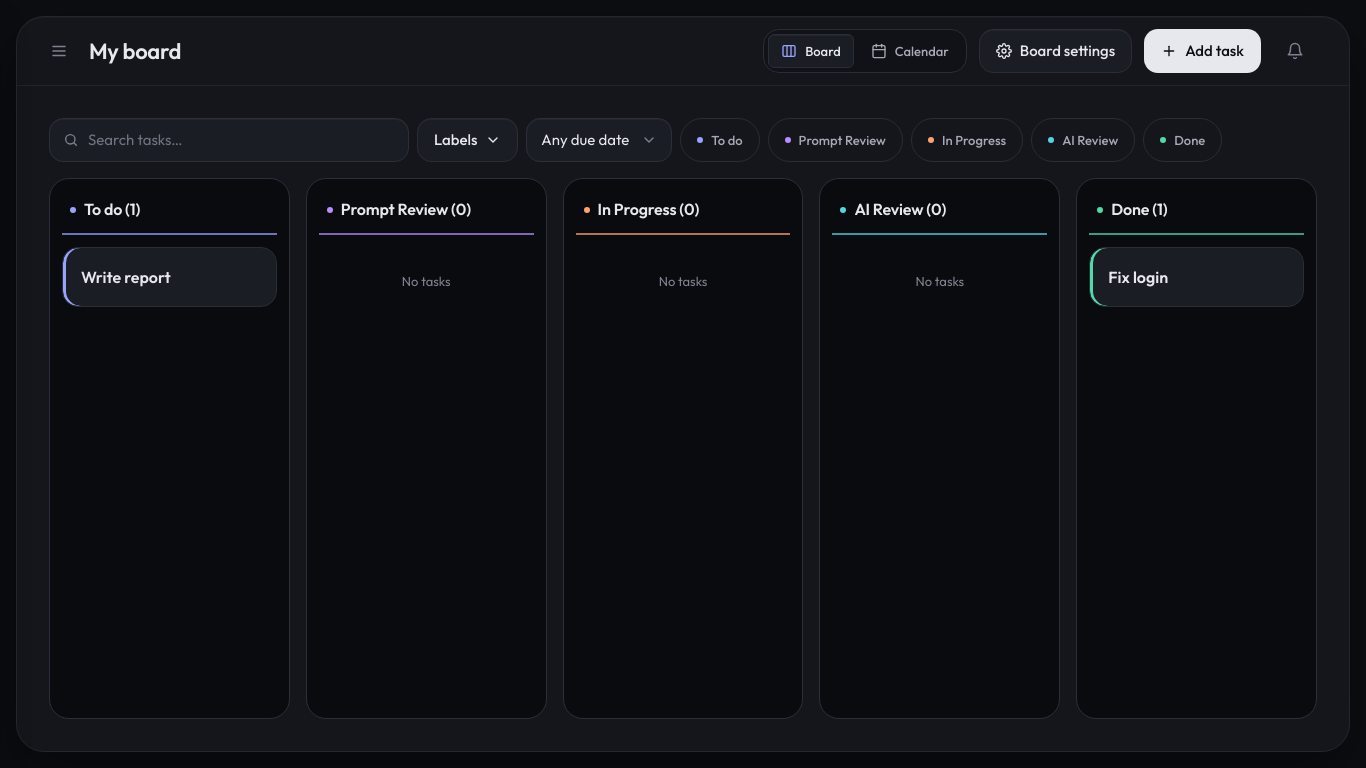
Test case: App › creates a board from the menu and opens it
Check: the button "Write report" is shown, box [81,266,171,288]
Click the button named "Open menu" at (59, 51), box [37,29,81,73]
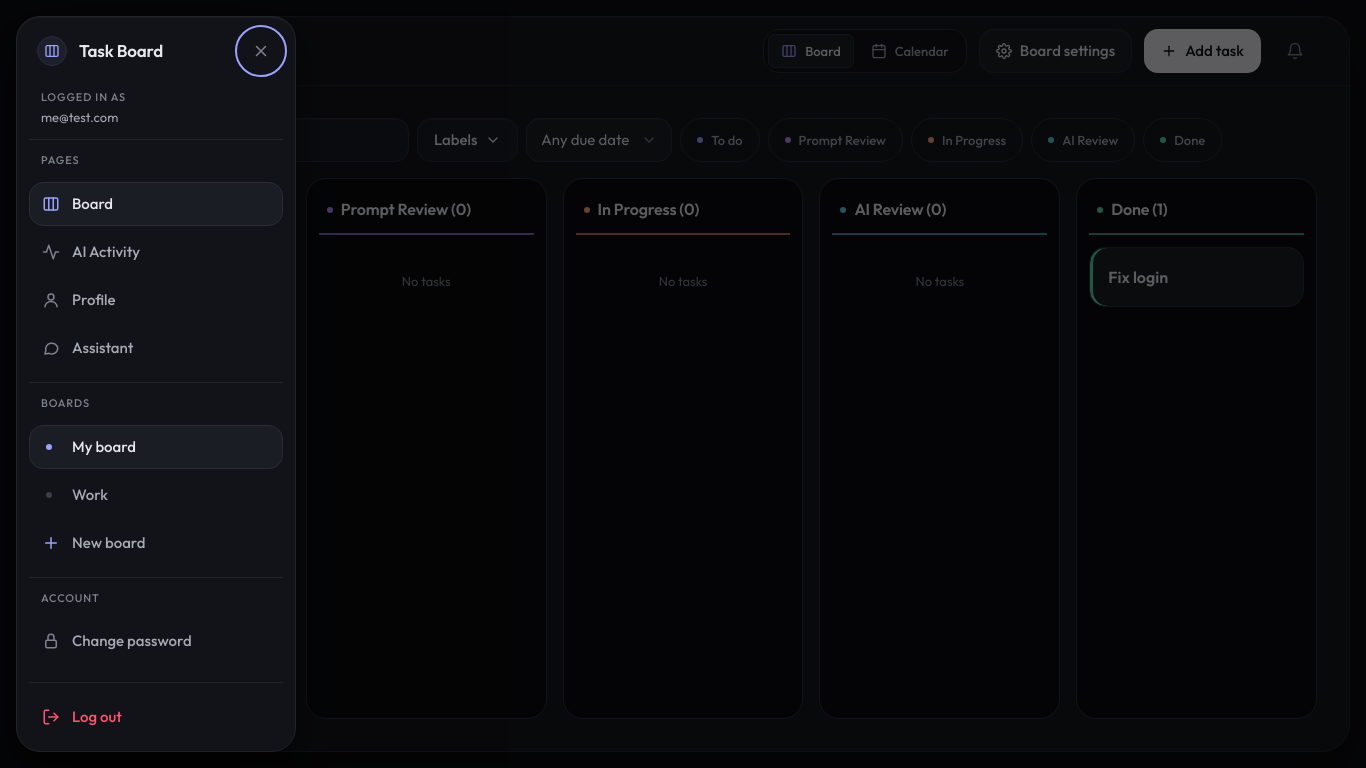
Click the button "New board" at (156, 543), box [29,521,283,565]
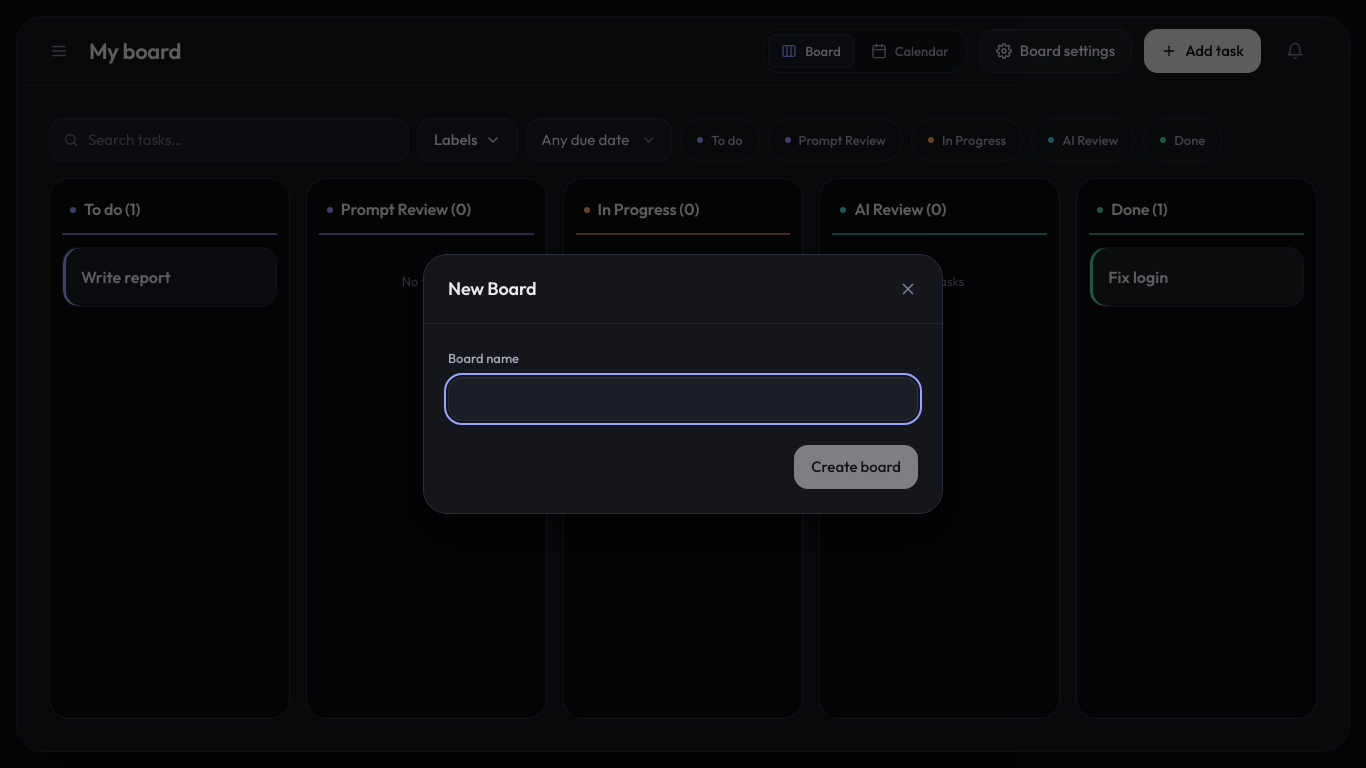
Type "Holiday" into the field labelled "Board name" at (683, 399), box [448,377,918,421]
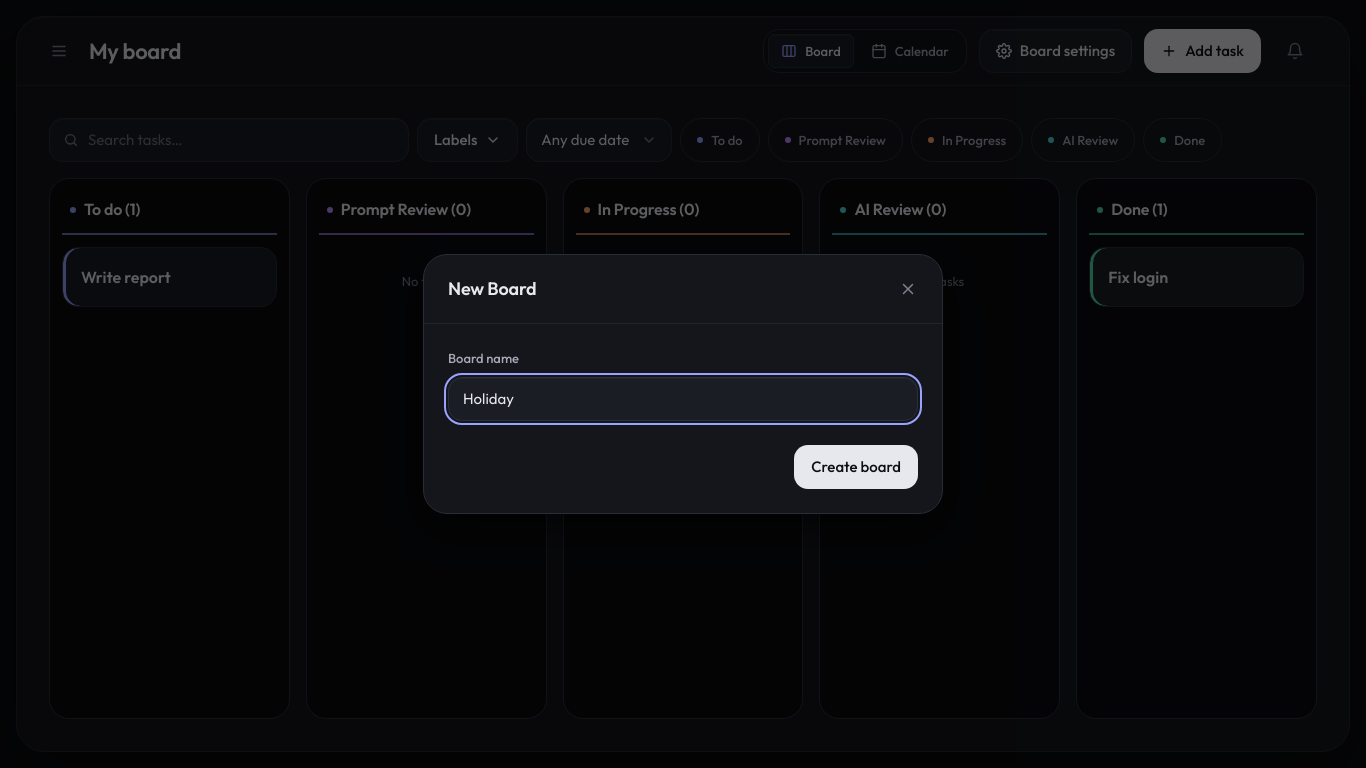
Click the button "Create board" at (856, 467), box [794,445,918,489]
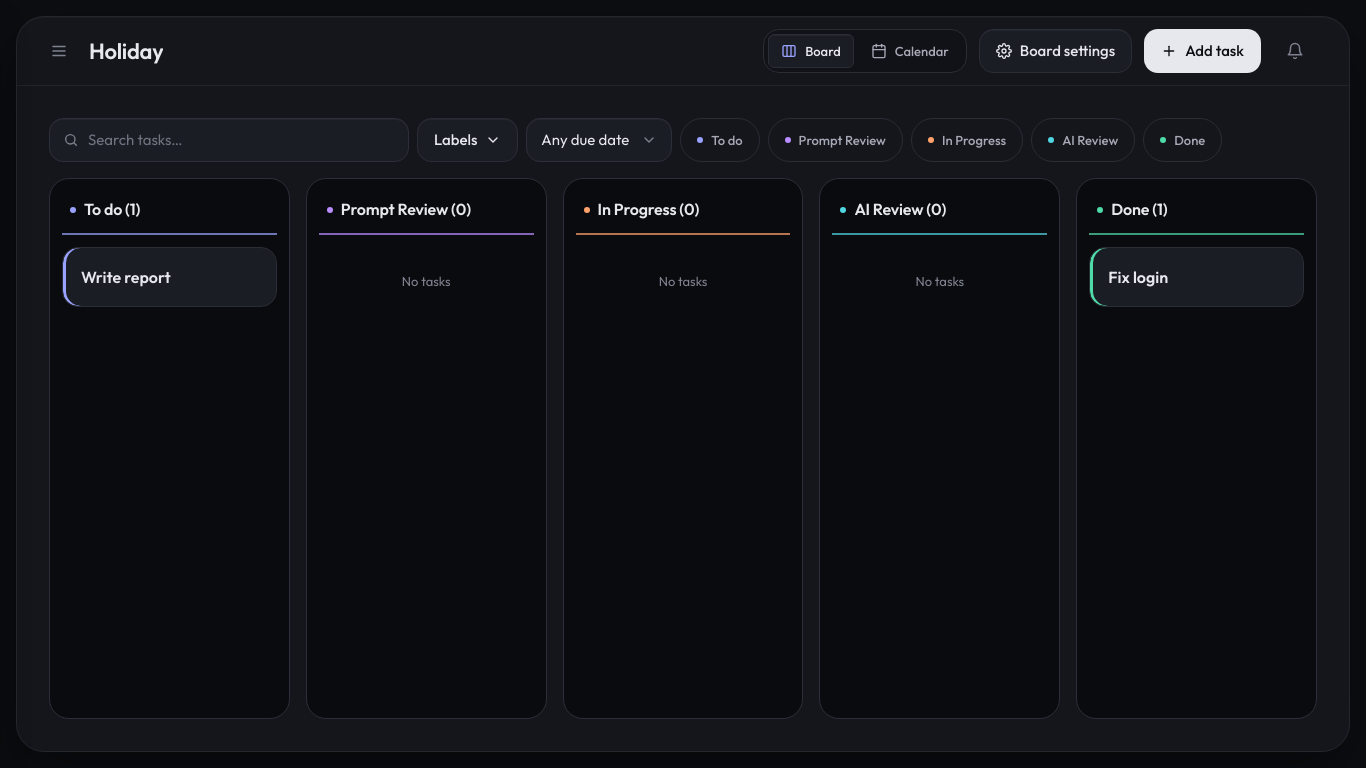
Check: the heading "Holiday" is shown, box [89,37,163,65]
